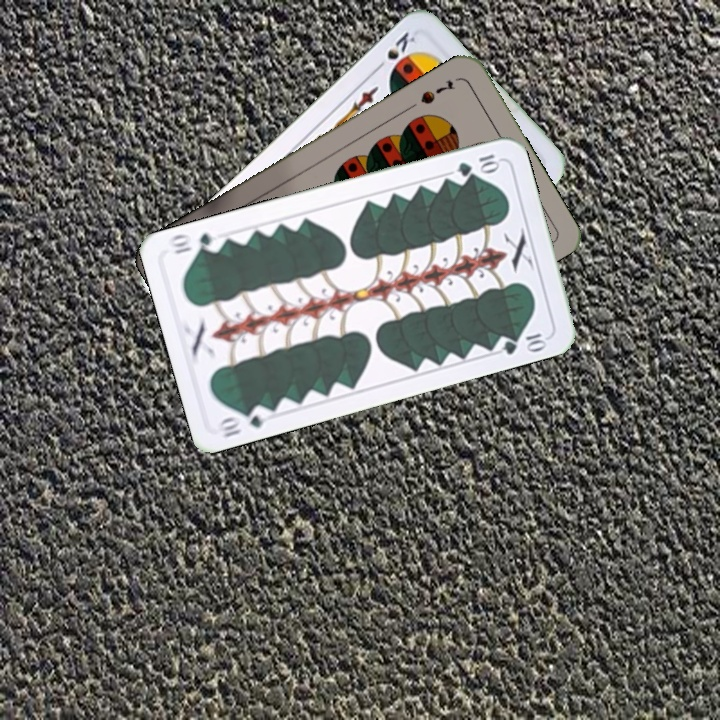G10: (214, 402, 274, 441), (453, 150, 504, 179)
S7: (416, 76, 457, 107)
SK: (370, 27, 418, 74)
